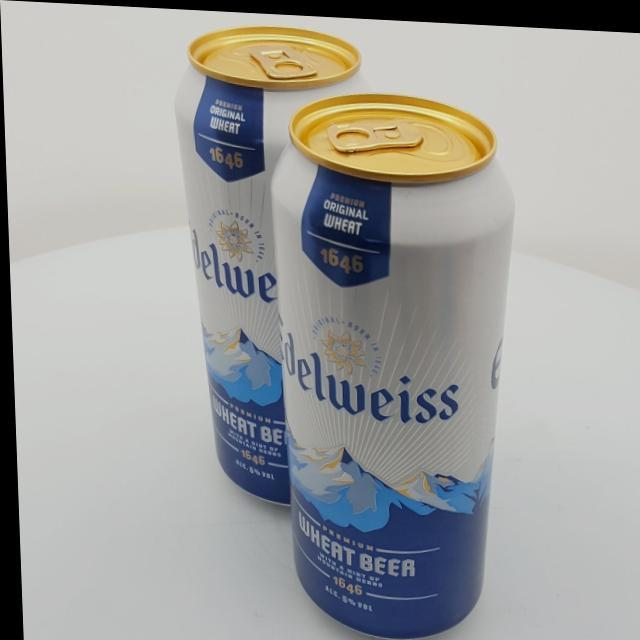beer-can: (265, 83, 527, 640), (171, 18, 384, 507)
